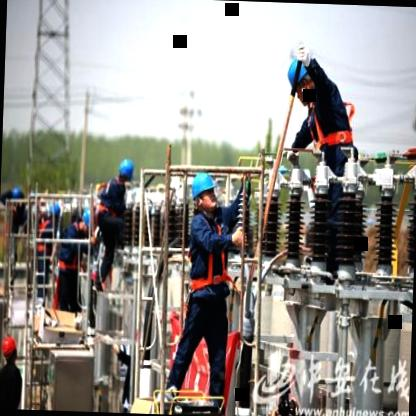helmet: (287, 50, 318, 111), (188, 168, 220, 218), (0, 335, 22, 367), (116, 157, 136, 190), (81, 205, 99, 240)
